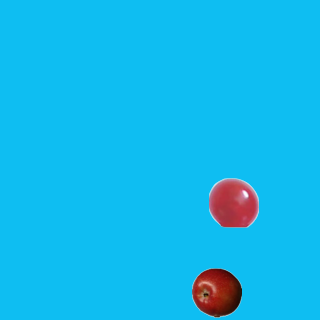Apple Braeburn: (191, 267, 241, 317)
Redcurrant: (208, 177, 258, 227)
